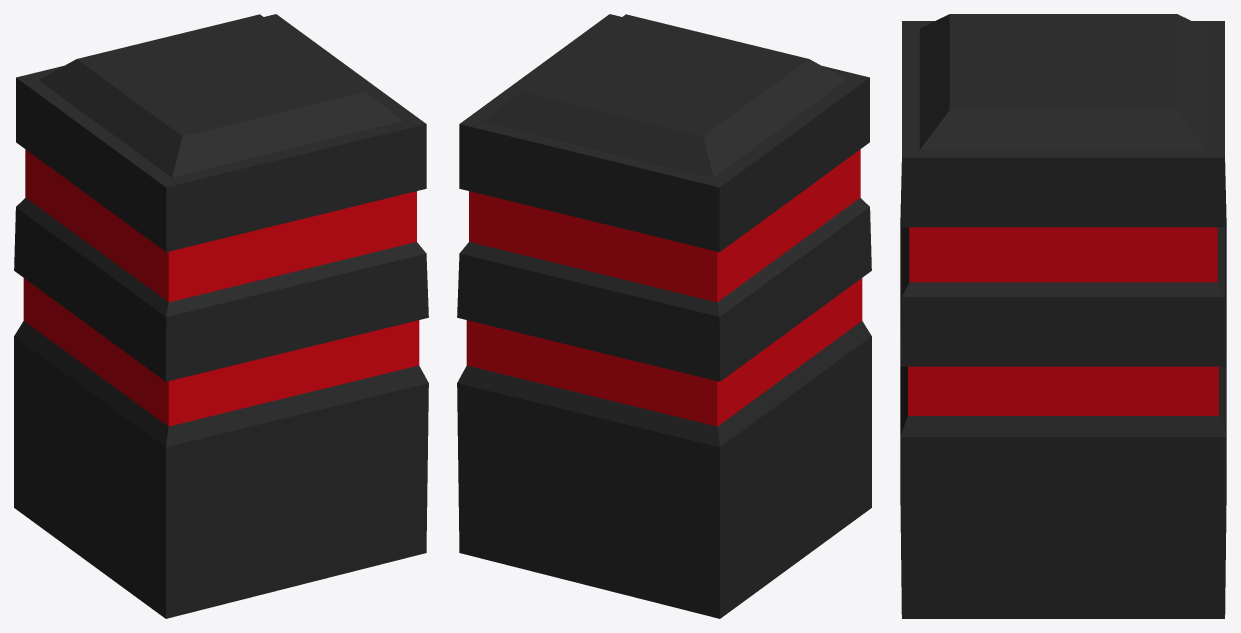
Rendered from Red Building.fbx.
3 views of the same model, side by side, from view 1: azimuth 30°, elevation 25°; view 2: azimuth 150°, elevation 25°; view 3: azimuth 270°, elevation 25° (orthographic). The views are drawn at different scales.
Parts seen in each view (by area): view 1: Cube; view 2: Cube; view 3: Cube.
Part boxes in pixels (x1,y1,x2,y2): Cube: (14,14,428,618); Cube: (457,14,871,618); Cube: (900,14,1226,618).
Bounding box in the file's own units: 399 × 661 × 399.
